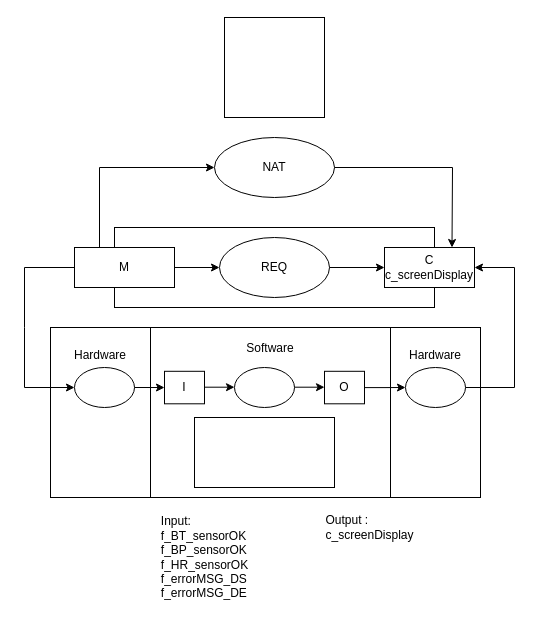
Image size: 540x620. Some labels were removed from this diagram. Here are the shapes that lost their labels. From the top down, the centre of each, then its label:
At (x=274, y=67): "UI - Display System Status".
At (x=104, y=387): "IN".
At (x=264, y=387): "SOF".
At (x=435, y=387): "OUT".
At (x=264, y=452): "displayWarnings() displayBatteryHealth() findBatteryHealth()".
